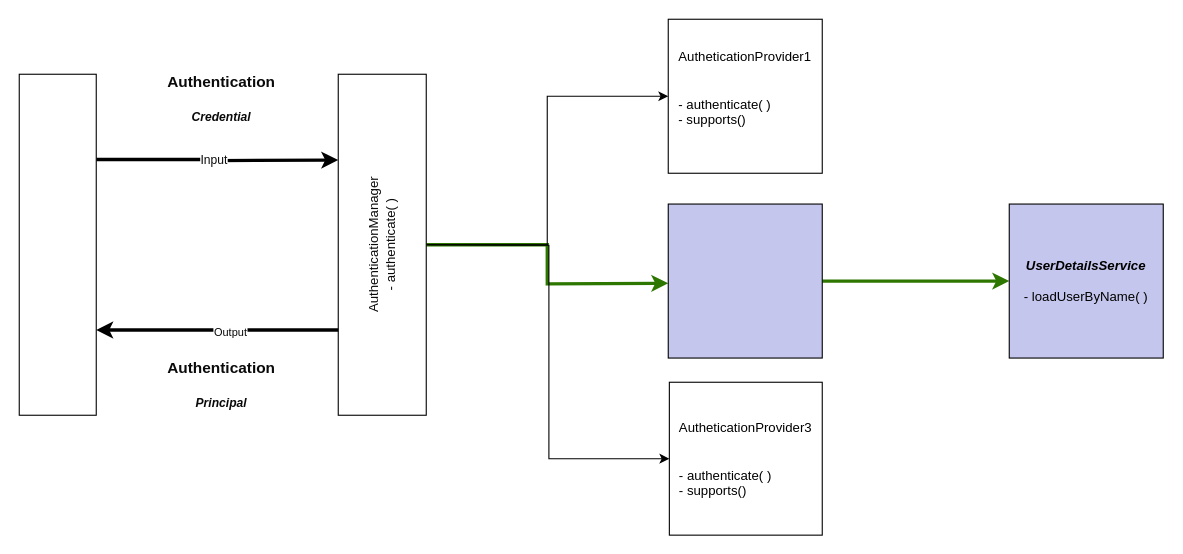
This 1183x554 diagram has some shape labels left out. The shapes that lost their labels are listed below. From the top down, each one's centre as x and y in pixels, then its label:
the point at 57,244: Authentiation Filter
the point at 744,280: AutheticationProvider2 - authenticate( ) - supports ()
